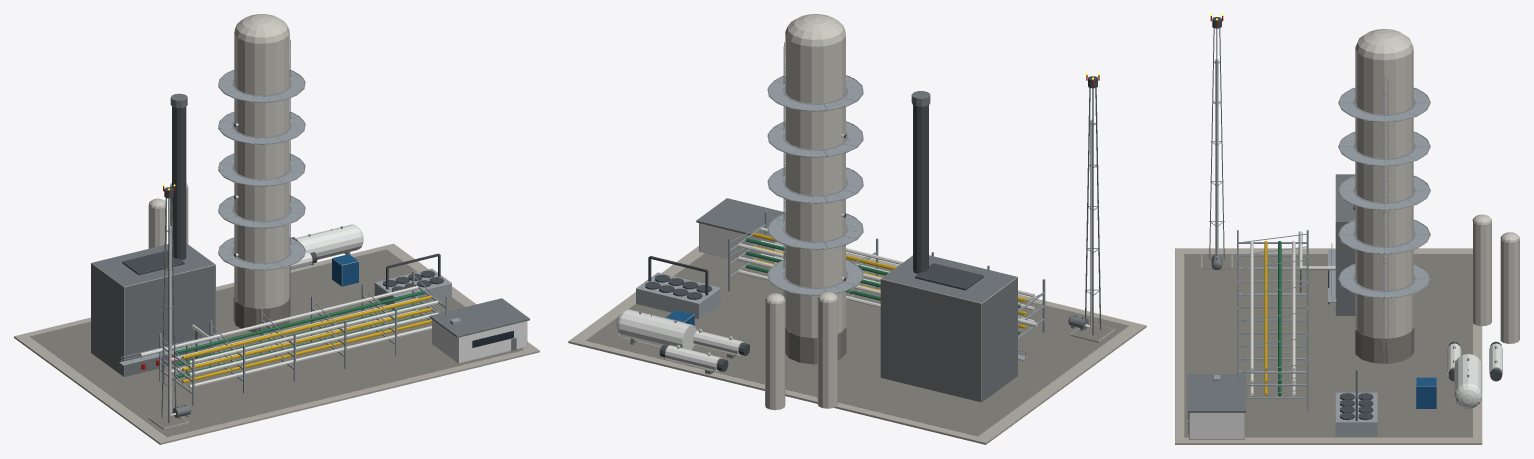
Rendered from ref_cdu.glb.
The picture shows the model from 3 angles, left to right: view 1: azimuth 30°, elevation 25°; view 2: azimuth 150°, elevation 25°; view 3: azimuth 270°, elevation 25°; orthographic projection. The views are drawn at different scales.
Visible parts, largest first — view 1: ref_cdu; view 2: ref_cdu; view 3: ref_cdu.
Part boxes in pixels (bbox=[...]): ref_cdu: bbox=[14, 14, 539, 444]; ref_cdu: bbox=[568, 14, 1146, 444]; ref_cdu: bbox=[1175, 14, 1519, 444].
Bounding box in the file's own units: 66 × 50.61 × 49.4.
